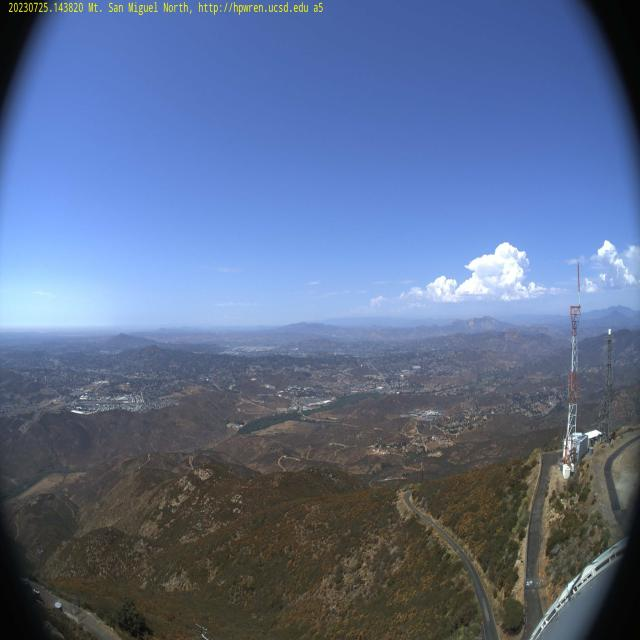smoke: (213, 322, 228, 336)
